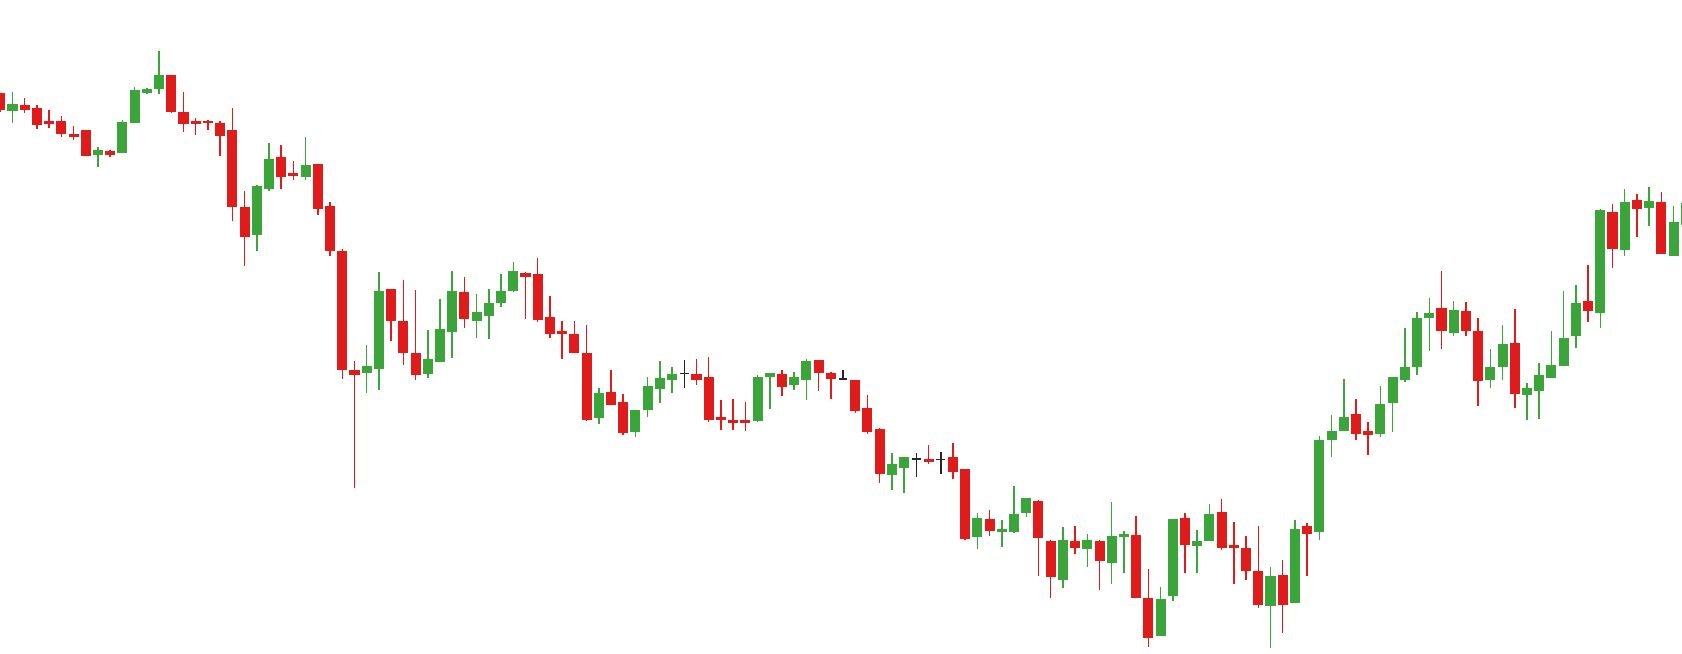buy: (1043, 526, 1180, 646), (1470, 345, 1536, 428)
sell: (446, 257, 544, 335)
